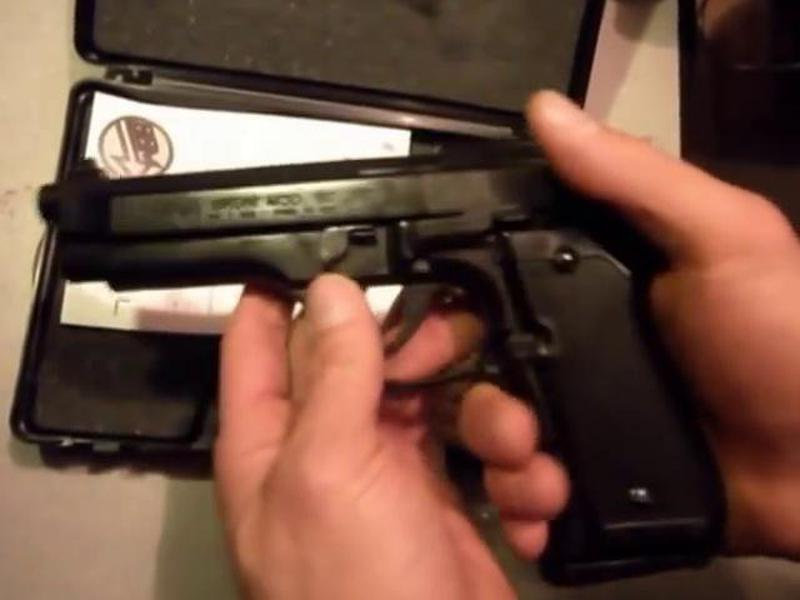Pistola: (34, 106, 714, 535)
